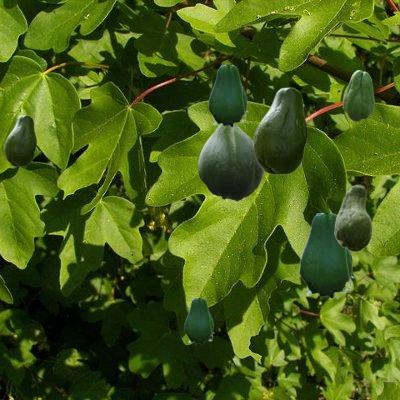sayote: (198, 124, 263, 200), (299, 213, 353, 299), (253, 87, 306, 173), (334, 185, 371, 251), (208, 65, 247, 127), (4, 115, 35, 165), (343, 70, 373, 120), (184, 298, 213, 344)
